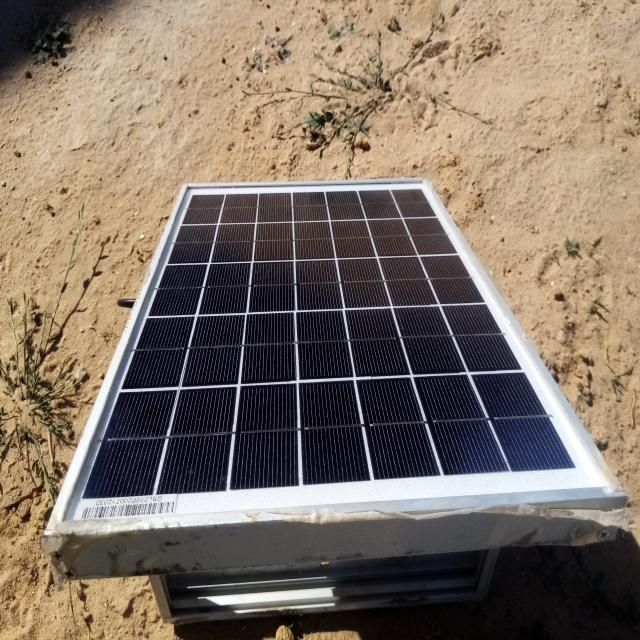no faulty: (46, 183, 620, 535)
